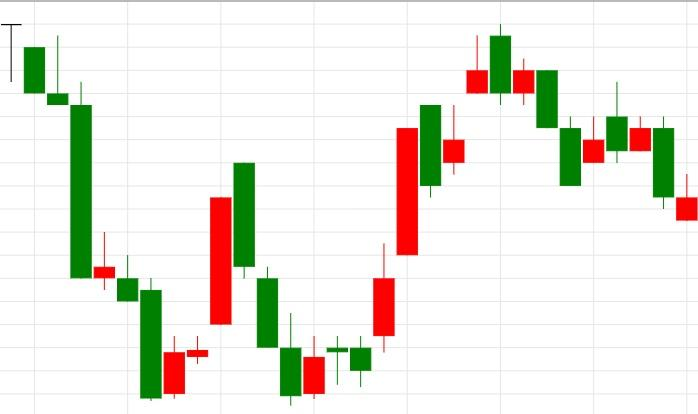bearish_engulfing_fall: (279, 24, 512, 405)
three_black_crows_fall: (139, 163, 303, 405)
